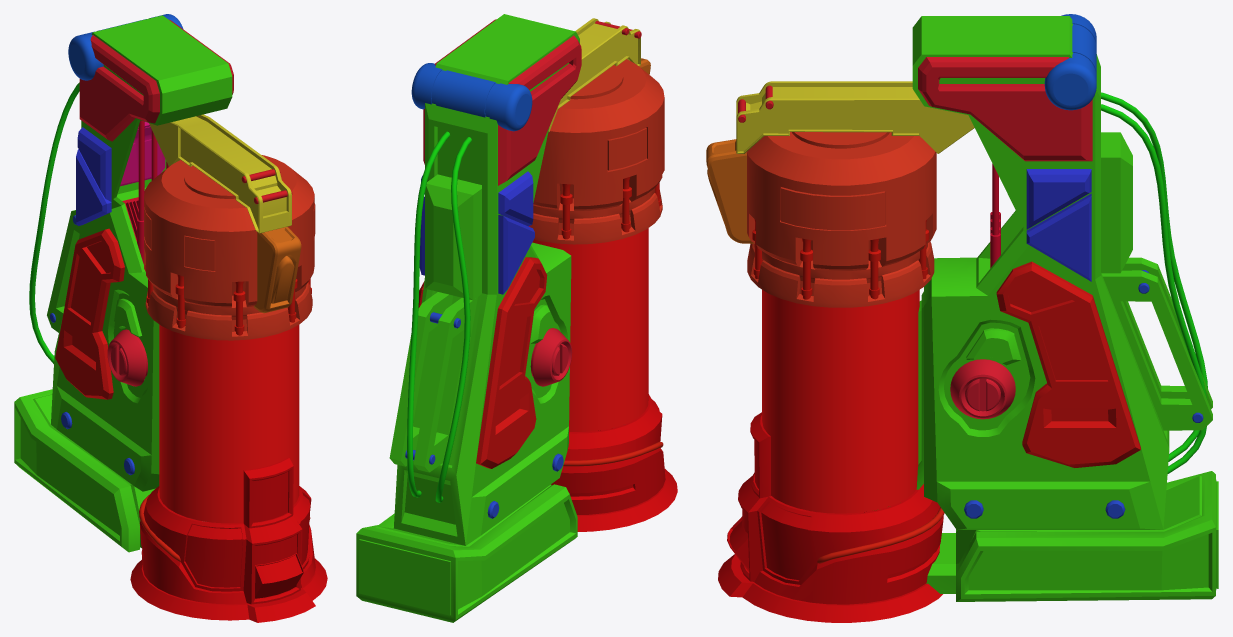
The picture shows the model from 3 angles, left to right: view 1: azimuth 30°, elevation 25°; view 2: azimuth 150°, elevation 25°; view 3: azimuth 270°, elevation 25°; orthographic projection. The views are drawn at different scales.
Parts seen in each view (by area): view 1: Cube, Cylinder.002, Cylinder.001, Cylinder.017, Cube.004, Cube.006, Cube.001, Cube.007, Cube.003, BezierCurve.001, Cylinder, Cylinder.008 (+5 smaller); view 2: Cube, Cylinder.017, Cylinder.002, Cylinder.001, Cube.004, Cube.001, BezierCurve.001, Cylinder.008, Cube.003, Cube.006, Cylinder, Cylinder.007 (+2 smaller); view 3: Cube, Cylinder.002, Cylinder.017, Cylinder.001, Cube.004, Cube.001, Cube.006, Cube.003, BezierCurve.001, Cylinder.008, Cube.007, Cylinder (+4 smaller).
Part boxes in pixels (bbox=[...]): Cube: bbox=[14, 15, 232, 552]; Cylinder.002: bbox=[159, 324, 299, 523]; Cylinder.001: bbox=[130, 457, 327, 622]; Cylinder.017: bbox=[144, 155, 315, 340]; Cube.004: bbox=[55, 228, 124, 399]; Cube.006: bbox=[149, 114, 291, 233]; Cube.001: bbox=[79, 20, 233, 141]; Cube.007: bbox=[253, 227, 301, 313]; Cube.003: bbox=[76, 127, 111, 225]; BezierCurve.001: bbox=[29, 82, 79, 363]; Cylinder: bbox=[107, 329, 147, 386]; Cylinder.008: bbox=[68, 14, 183, 80]; Cube: bbox=[356, 14, 579, 622]; Cylinder.017: bbox=[530, 59, 664, 244]; Cylinder.002: bbox=[532, 228, 648, 431]; Cylinder.001: bbox=[551, 394, 677, 531]; Cube.004: bbox=[418, 257, 547, 468]; Cube.001: bbox=[423, 19, 581, 185]; BezierCurve.001: bbox=[407, 131, 471, 502]; Cylinder.008: bbox=[411, 63, 532, 131]; Cube.003: bbox=[419, 171, 534, 294]; Cube.006: bbox=[548, 18, 640, 132]; Cylinder: bbox=[530, 328, 572, 386]; Cylinder.007: bbox=[560, 177, 660, 239]; Cube: bbox=[874, 16, 1218, 601]; Cylinder.002: bbox=[762, 289, 919, 513]; Cylinder.017: bbox=[746, 132, 936, 307]; Cylinder.001: bbox=[718, 412, 943, 622]; Cube.004: bbox=[996, 261, 1140, 467]; Cube.001: bbox=[918, 57, 1092, 161]; Cube.006: bbox=[736, 81, 974, 153]; Cube.003: bbox=[1026, 169, 1091, 281]; BezierCurve.001: bbox=[1101, 92, 1207, 473]; Cylinder.008: bbox=[1044, 14, 1096, 110]; Cube.007: bbox=[706, 139, 754, 243]; Cylinder: bbox=[950, 359, 1015, 419].
Bounding box in the file's own units: 67.85 × 183 × 157.
